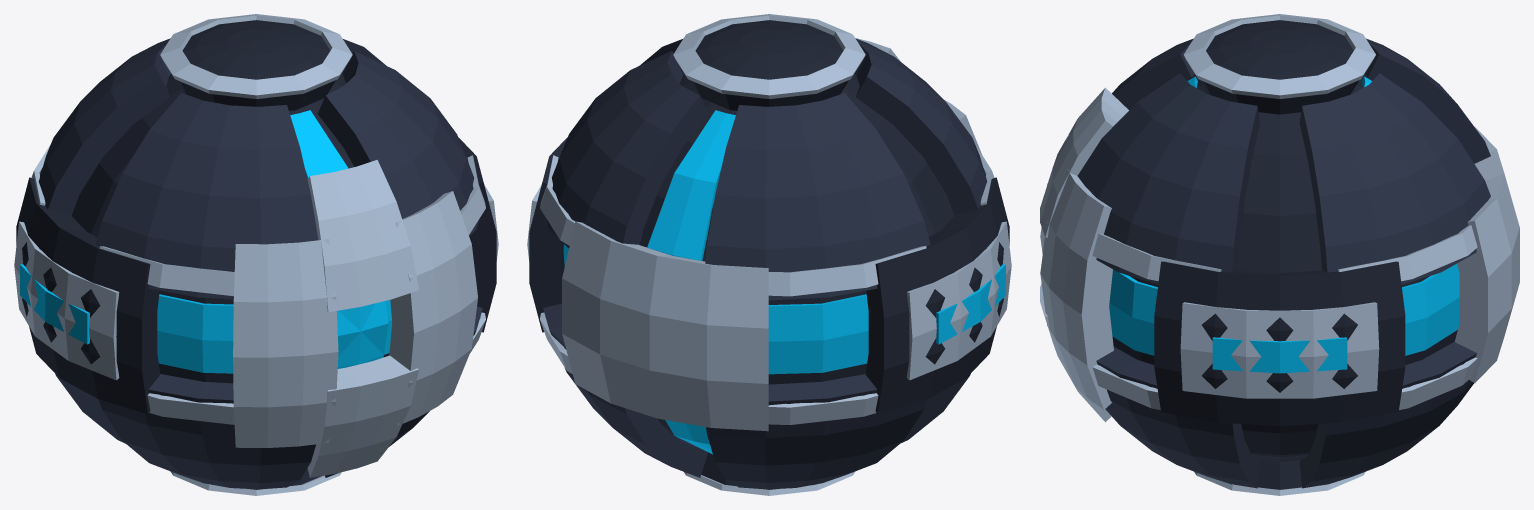
The model's file is Chassis_Rammer_Prototype.obj.
3 views of the same model, side by side, from view 1: azimuth 30°, elevation 25°; view 2: azimuth 150°, elevation 25°; view 3: azimuth 270°, elevation 25° (orthographic).
Visible parts, largest first — view 1: SM_Chassis_Rammer_01_MAT_LightTrim, SM_Chassis_Rammer_01_MAT_AltNeutral, SM_Chassis_Rammer_01_MAT_DarkNeutral, SM_Chassis_Rammer_01_EMI_Cyan; view 2: SM_Chassis_Rammer_01_MAT_AltNeutral, SM_Chassis_Rammer_01_MAT_LightTrim, SM_Chassis_Rammer_01_MAT_DarkNeutral, SM_Chassis_Rammer_01_EMI_Cyan; view 3: SM_Chassis_Rammer_01_MAT_AltNeutral, SM_Chassis_Rammer_01_MAT_LightTrim, SM_Chassis_Rammer_01_MAT_DarkNeutral, SM_Chassis_Rammer_01_EMI_Cyan.
Boxes of the visible parts, bbox=[...] form: SM_Chassis_Rammer_01_MAT_LightTrim: bbox=[14, 14, 498, 495]; SM_Chassis_Rammer_01_MAT_AltNeutral: bbox=[38, 38, 482, 489]; SM_Chassis_Rammer_01_MAT_DarkNeutral: bbox=[16, 20, 496, 489]; SM_Chassis_Rammer_01_EMI_Cyan: bbox=[20, 110, 392, 373]; SM_Chassis_Rammer_01_MAT_AltNeutral: bbox=[543, 38, 987, 489]; SM_Chassis_Rammer_01_MAT_LightTrim: bbox=[527, 14, 1011, 495]; SM_Chassis_Rammer_01_MAT_DarkNeutral: bbox=[529, 20, 1009, 489]; SM_Chassis_Rammer_01_EMI_Cyan: bbox=[563, 110, 1005, 454]; SM_Chassis_Rammer_01_MAT_AltNeutral: bbox=[1077, 38, 1490, 488]; SM_Chassis_Rammer_01_MAT_LightTrim: bbox=[1040, 14, 1519, 495]; SM_Chassis_Rammer_01_MAT_DarkNeutral: bbox=[1112, 20, 1457, 489]; SM_Chassis_Rammer_01_EMI_Cyan: bbox=[1109, 76, 1459, 373].
Bounding box in the file's own units: 5.93 × 5.76 × 5.83.
